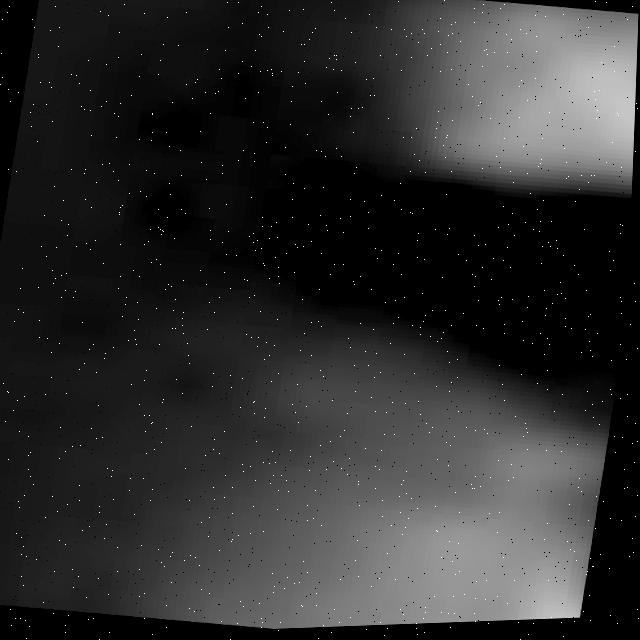person: (104, 435, 607, 637), (403, 1, 640, 221)
